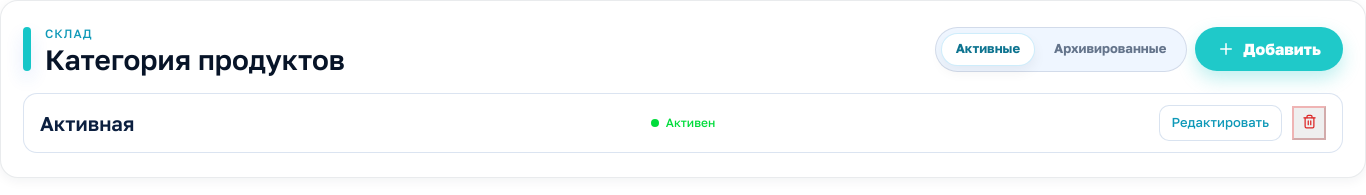
Test case: RAW CATEGORIES V1.1 row design › status uses Dish Categories dot style without invented archive
Expected: the text "Активная" is shown, [40,110,134,136]
Expected: the text "Активен" is shown, [651,115,715,130]
Click the tab "Архивированные": [1110, 49] box [1039,32,1181,66]
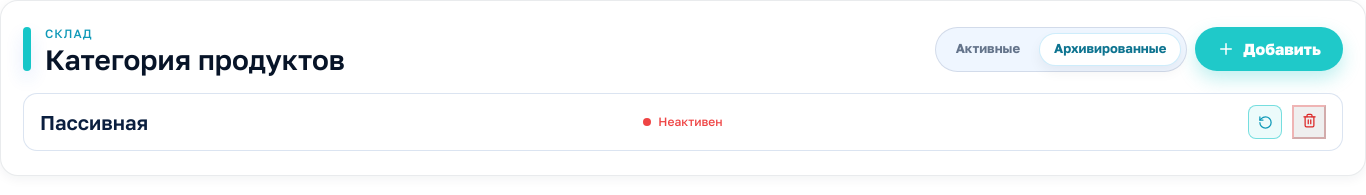
Now the text "Пассивная" is shown, box [40,109,148,135]
Now the text "Неактивен" is shown, box [643,114,723,129]
